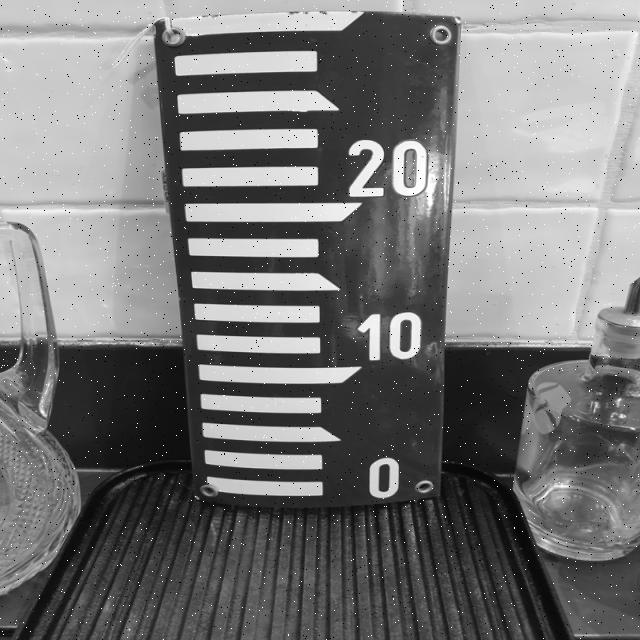staff: (150, 15, 458, 504)
